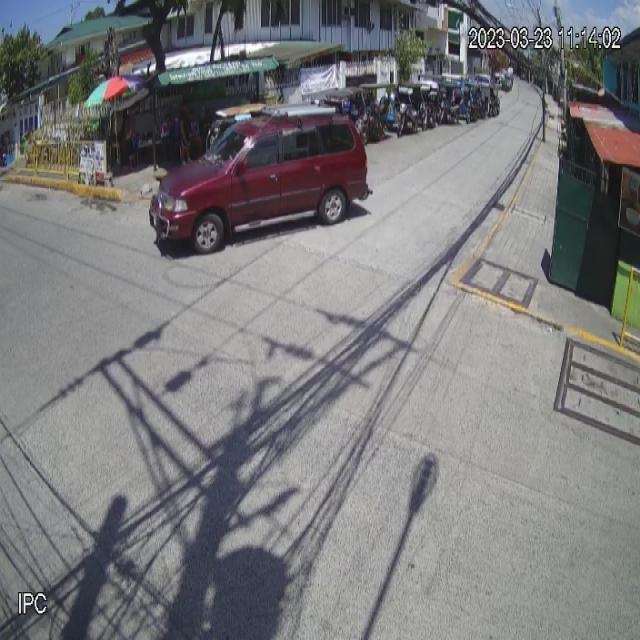Car: (149, 104, 371, 253)
